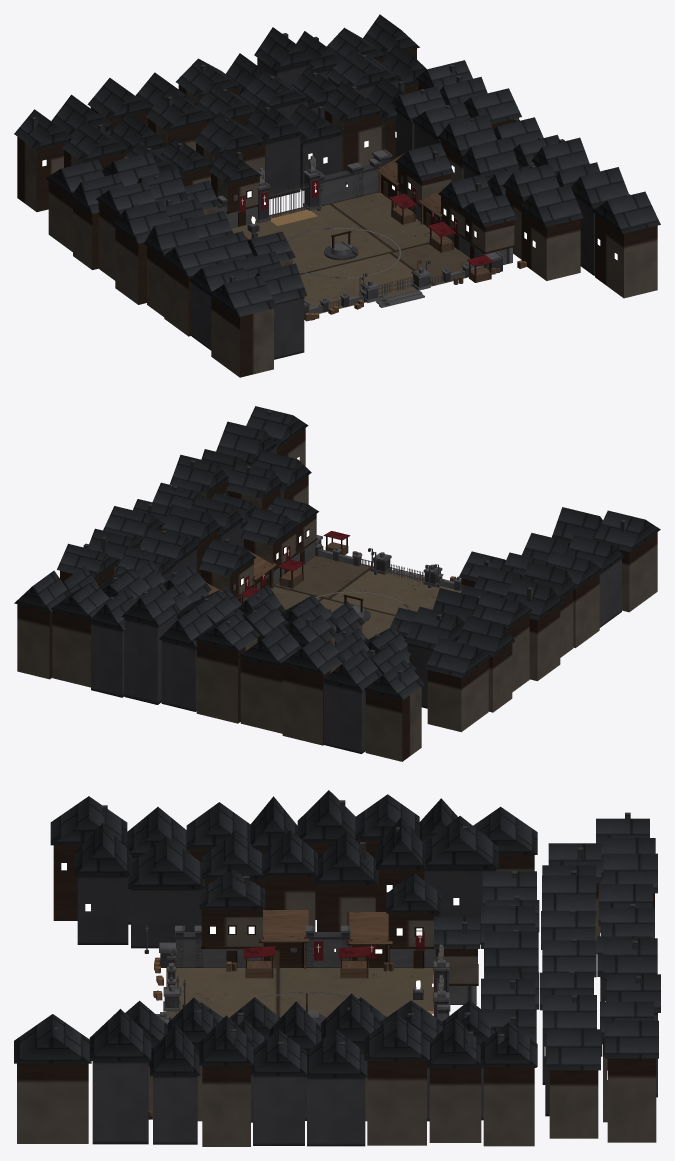
File: town_well_03.glb
3 renders of one model, top to bottom at view 1: azimuth 30°, elevation 25°; view 2: azimuth 150°, elevation 25°; view 3: azimuth 270°, elevation 25°, orthographic. The views are drawn at different scales.
Parts seen in each view (by area): view 1: _MeshInstance3D_1910, _MeshInstance3D_2355, _MeshInstance3D_2232, _MeshInstance3D_2322, _MeshInstance3D_2007, _MeshInstance3D_1958, _MeshInstance3D_2219, _MeshInstance3D_1966, _MeshInstance3D_2356, _MeshInstance3D_2233, _MeshInstance3D_2323, _MeshInstance3D_1956 (+74 smaller); view 2: _MeshInstance3D_1910, _MeshInstance3D_2007, _MeshInstance3D_2019, _MeshInstance3D_2209, _MeshInstance3D_2025, _MeshInstance3D_2014, _MeshInstance3D_2016, _MeshInstance3D_2033, _MeshInstance3D_2011, _MeshInstance3D_2037, _MeshInstance3D_2022, _MeshInstance3D_2029 (+65 smaller); view 3: _MeshInstance3D_1910, _MeshInstance3D_2355, _MeshInstance3D_2334, _MeshInstance3D_2352, _MeshInstance3D_2037, _MeshInstance3D_2326, _MeshInstance3D_2337, _MeshInstance3D_2345, _MeshInstance3D_2331, _MeshInstance3D_2341, _MeshInstance3D_2204, _MeshInstance3D_2206 (+77 smaller).
Part boxes in pixels (x1,y1,x2,y2): _MeshInstance3D_1910: [231, 192, 480, 313]; _MeshInstance3D_2355: [595, 214, 657, 298]; _MeshInstance3D_2232: [211, 297, 273, 377]; _MeshInstance3D_2322: [521, 210, 580, 280]; _MeshInstance3D_2007: [17, 137, 66, 211]; _MeshInstance3D_1958: [265, 135, 300, 199]; _MeshInstance3D_2219: [115, 228, 146, 304]; _MeshInstance3D_1966: [324, 110, 381, 171]; _MeshInstance3D_2356: [592, 191, 660, 233]; _MeshInstance3D_2233: [208, 275, 276, 316]; _MeshInstance3D_2323: [518, 184, 583, 226]; _MeshInstance3D_1956: [193, 112, 267, 156]; _MeshInstance3D_1910: [271, 556, 461, 639]; _MeshInstance3D_2007: [365, 687, 421, 761]; _MeshInstance3D_2019: [196, 638, 257, 723]; _MeshInstance3D_2209: [427, 659, 488, 732]; _MeshInstance3D_2025: [124, 612, 177, 704]; _MeshInstance3D_2014: [282, 662, 342, 745]; _MeshInstance3D_2016: [240, 658, 282, 733]; _MeshInstance3D_2033: [52, 610, 90, 687]; _MeshInstance3D_2011: [324, 682, 365, 753]; _MeshInstance3D_2037: [17, 604, 52, 679]; _MeshInstance3D_2022: [161, 640, 196, 711]; _MeshInstance3D_2029: [91, 623, 124, 697]; _MeshInstance3D_1910: [166, 968, 433, 1017]; _MeshInstance3D_2355: [17, 1063, 88, 1143]; _MeshInstance3D_2334: [367, 1061, 426, 1145]; _MeshInstance3D_2352: [92, 1061, 148, 1144]; _MeshInstance3D_2037: [607, 1058, 656, 1142]; _MeshInstance3D_2326: [483, 1067, 534, 1146]; _MeshInstance3D_2337: [307, 1077, 365, 1146]; _MeshInstance3D_2345: [202, 1065, 250, 1146]; _MeshInstance3D_2331: [429, 1068, 481, 1142]; _MeshInstance3D_2341: [253, 1075, 304, 1145]; _MeshInstance3D_2204: [131, 889, 201, 948]; _MeshInstance3D_2206: [77, 876, 128, 944].
Size of what is drawn, in the model's own units: 61.03 by 15.32 by 66.73.
Materials: 18 (12 with a texture image).
